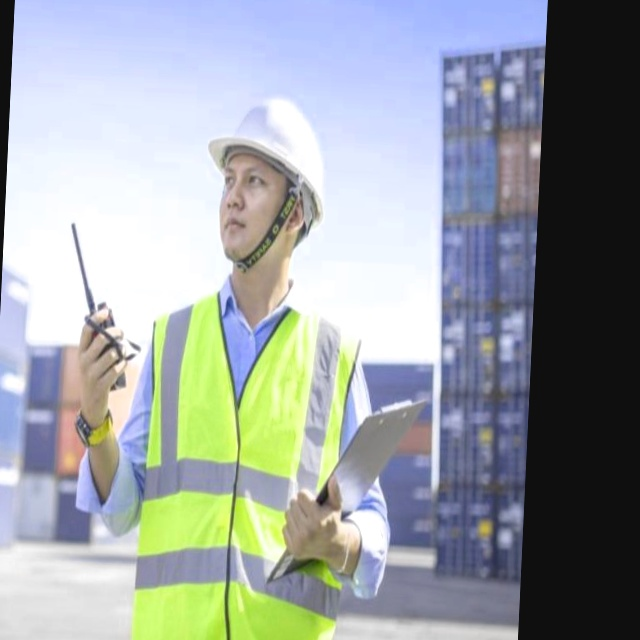Con_Casco: (200, 92, 333, 274)
Con_Chaleco: (123, 291, 357, 640)
